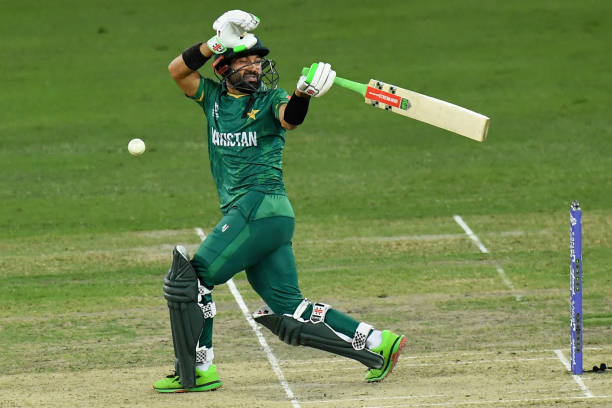bottom left: (478, 108, 498, 128)
bottom right: (469, 132, 491, 154)
top left: (364, 73, 377, 86)
top right: (356, 92, 376, 112)
